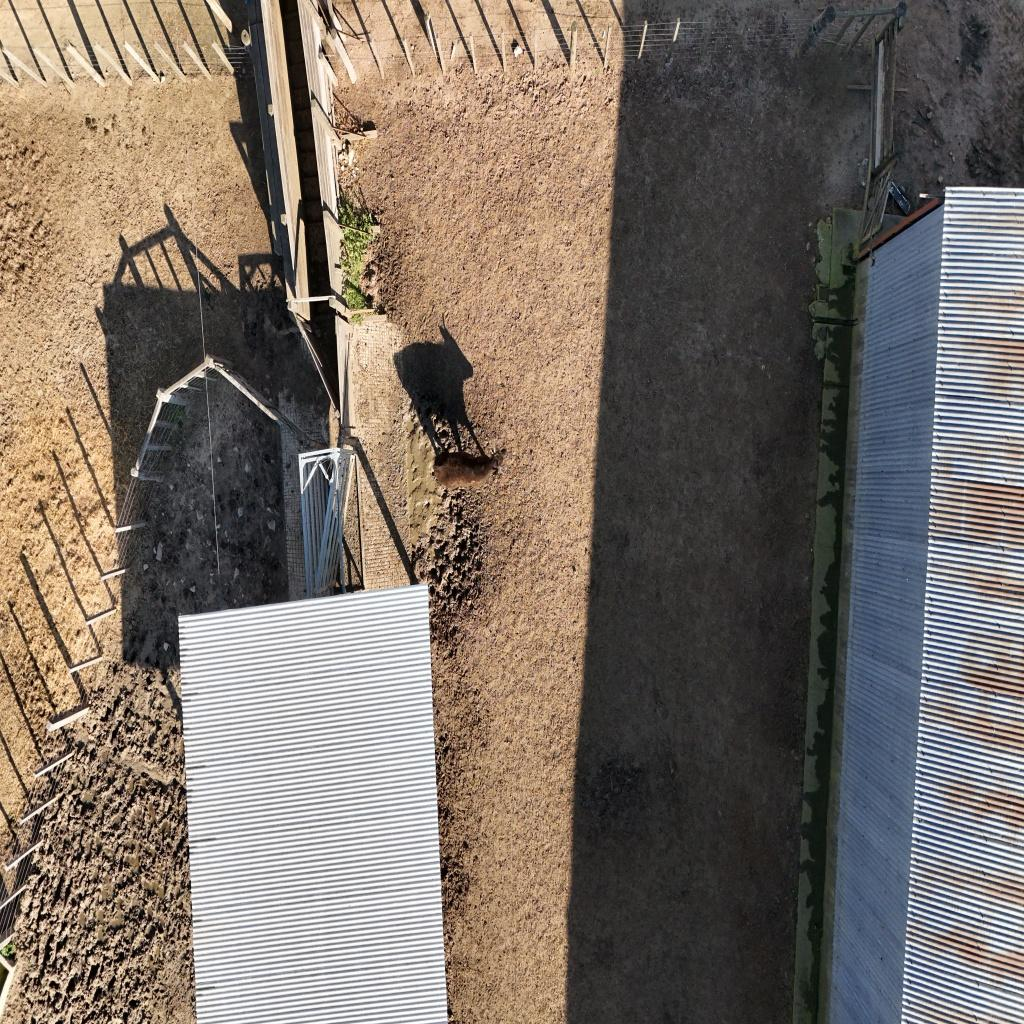cow: (426, 444, 510, 495)
